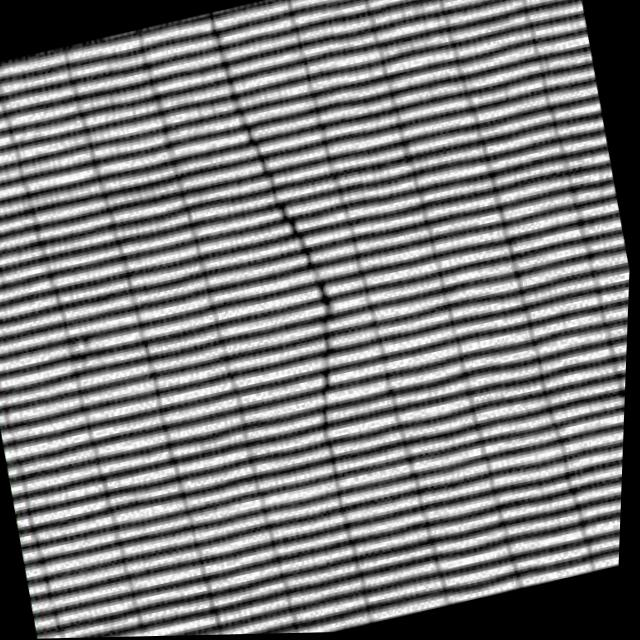Stitch: (201, 88, 406, 479)
